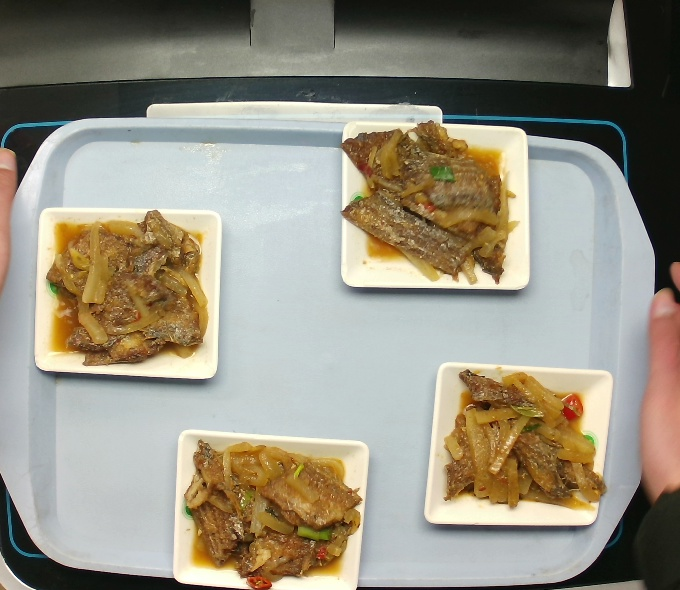wcq-DaiYu: (342, 121, 520, 288), (176, 439, 370, 590), (45, 209, 205, 367), (443, 368, 608, 509)
